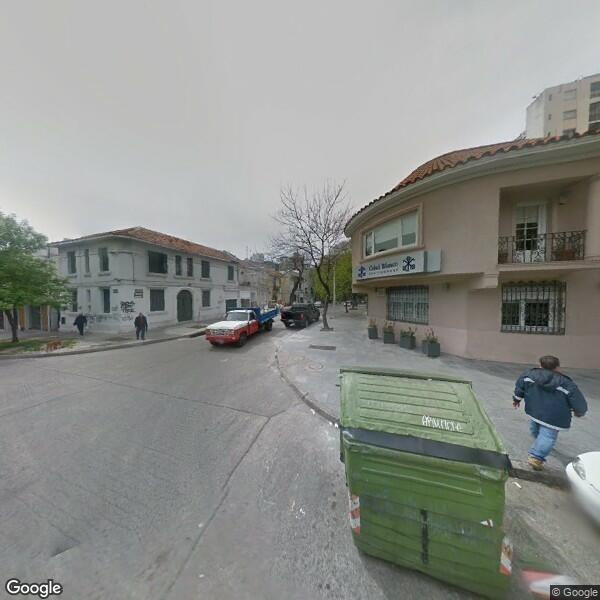Trash: (338, 369, 514, 597)
